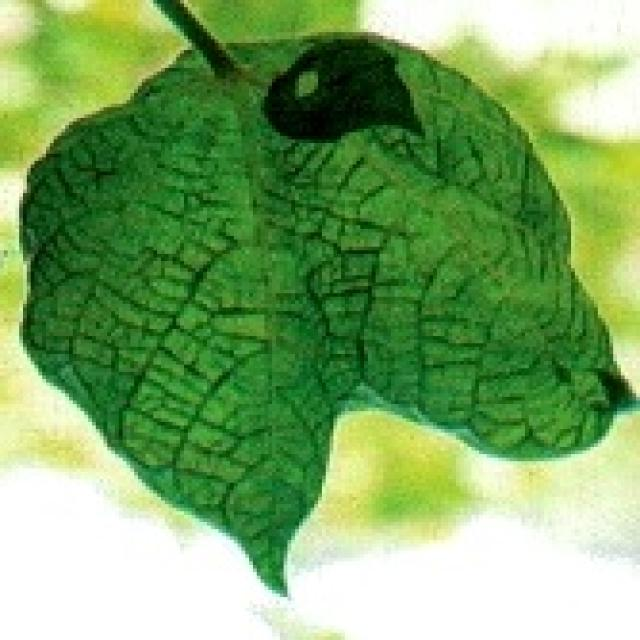Leaf Curl Virus: (208, 29, 432, 263)
